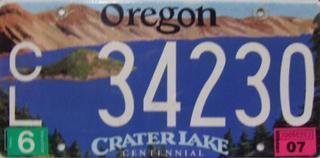placa de veiculo: (1, 0, 313, 153)
